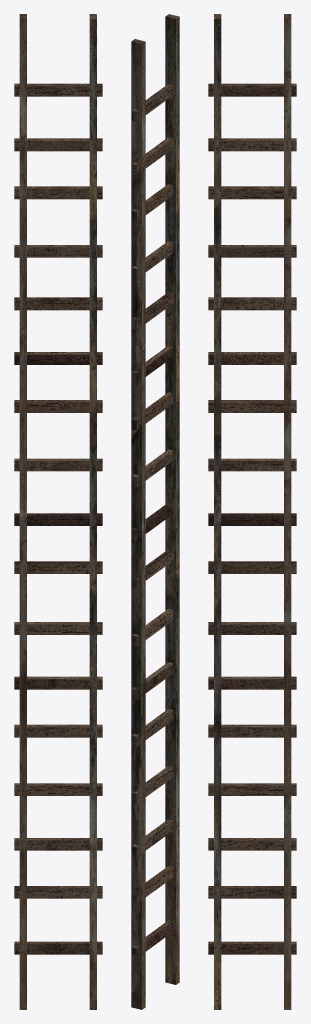
File: escada.glb
3 renders of one model, left to right at view 1: azimuth 90°, elevation 25°; view 2: azimuth 150°, elevation 25°; view 3: azimuth 270°, elevation 25°, orthographic. The views are drawn at different scales.
Visible parts, largest first — view 1: Ladder2.001/Ladder2.001_Ladder_0; view 2: Ladder2.001/Ladder2.001_Ladder_0; view 3: Ladder2.001/Ladder2.001_Ladder_0.
Part boxes in pixels (box(x1,y1,x2,y2)): Ladder2.001/Ladder2.001_Ladder_0: box(14, 14, 102, 1009); Ladder2.001/Ladder2.001_Ladder_0: box(131, 14, 179, 1009); Ladder2.001/Ladder2.001_Ladder_0: box(208, 14, 296, 1009).
Size of the model in its own units: 0.0901 by 7.86 by 0.634.
Materials: 1 (1 with a texture image).
